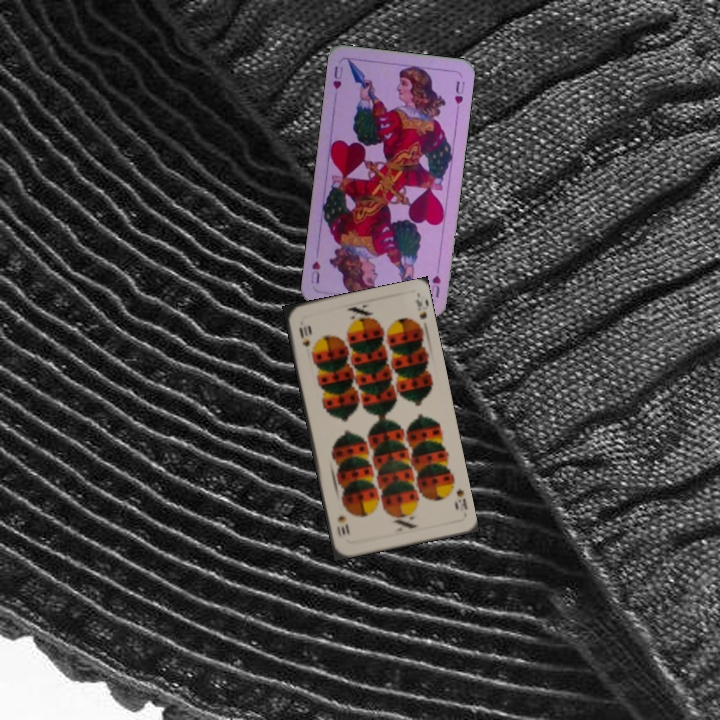HU: (426, 260, 443, 300), (329, 62, 345, 92)
S10: (453, 484, 470, 512), (295, 322, 312, 349)
